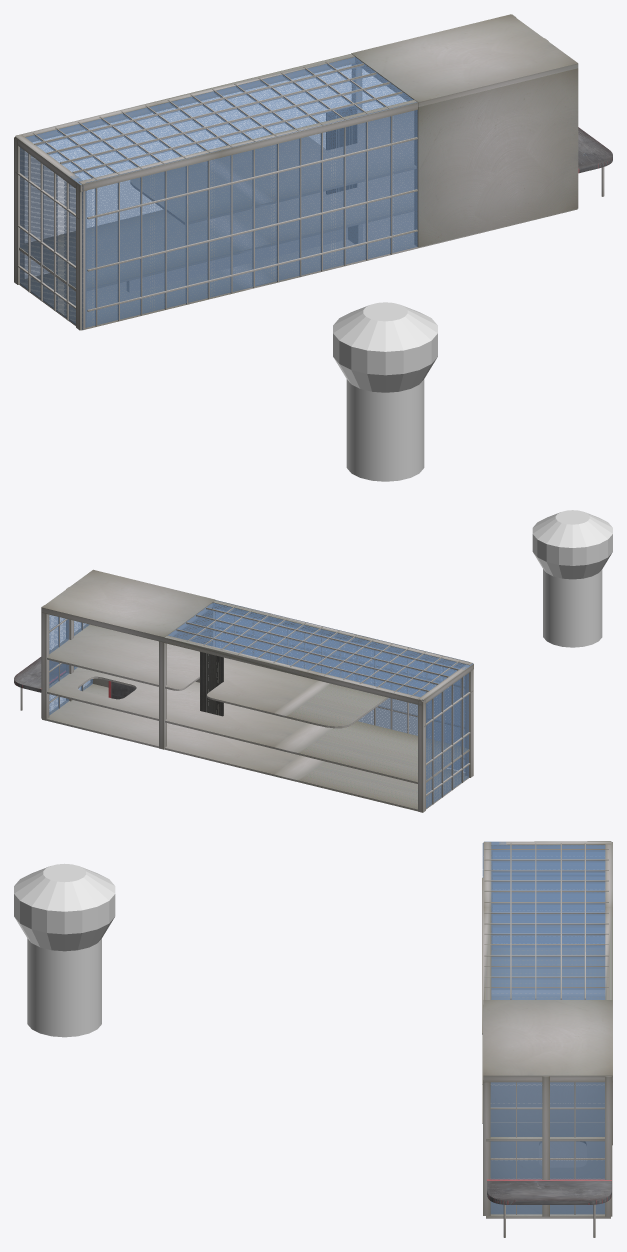
File: airport_large.FBX
3 renders of one model, top to bottom at view 1: azimuth 30°, elevation 25°; view 2: azimuth 150°, elevation 25°; view 3: azimuth 270°, elevation 25°, orthographic. The views are drawn at different scales.
Visible parts, largest first — view 1: Box095, Box088, Box089, Box096, Cylinder004, Box081, Box086, Box082, Box097, Box160, Box132, Box116 (+8 smaller); view 2: Box089, Box081, Box086, Box082, Box096, Cylinder004, Box095, Box097, Box098, Box087, Box131, Box088 (+4 smaller); view 3: Box096, Box089, Cylinder004, Box098, Box086, Box097, Box081, Box131, Box082, Box088.
Part boxes in pixels (<box>): Box095: <box>85,102,417,327</box>; Box088: <box>414,68,578,247</box>; Box089: <box>14,14,578,330</box>; Box096: <box>25,57,413,184</box>; Cylinder004: <box>333,302,437,481</box>; Box081: <box>19,170,414,291</box>; Box086: <box>130,111,416,224</box>; Box082: <box>19,209,577,330</box>; Box097: <box>20,147,83,329</box>; Box160: <box>126,254,240,292</box>; Box132: <box>240,228,347,264</box>; Box116: <box>34,63,363,145</box>; Box089: <box>41,569,473,812</box>; Box081: <box>47,666,469,783</box>; Box086: <box>47,624,388,728</box>; Box082: <box>42,683,469,811</box>; Box096: <box>168,602,473,696</box>; Cylinder004: <box>532,510,612,647</box>; Box095: <box>215,600,469,771</box>; Box097: <box>426,673,468,808</box>; Box098: <box>49,614,92,715</box>; Box087: <box>200,652,223,716</box>; Box131: <box>14,657,74,692</box>; Box088: <box>90,608,215,687</box>; Box096: <box>484,841,605,999</box>; Box089: <box>483,841,612,1216</box>; Cylinder004: <box>14,863,115,1037</box>; Box098: <box>490,1082,604,1214</box>; Box086: <box>486,954,605,1141</box>; Box097: <box>482,843,604,943</box>; Box081: <box>491,948,605,1179</box>; Box131: <box>487,1179,611,1204</box>; Box082: <box>486,1141,610,1218</box>; Box088: <box>483,1005,490,1215</box>.
Size of the model in its own units: 243 by 68.25 by 240.
